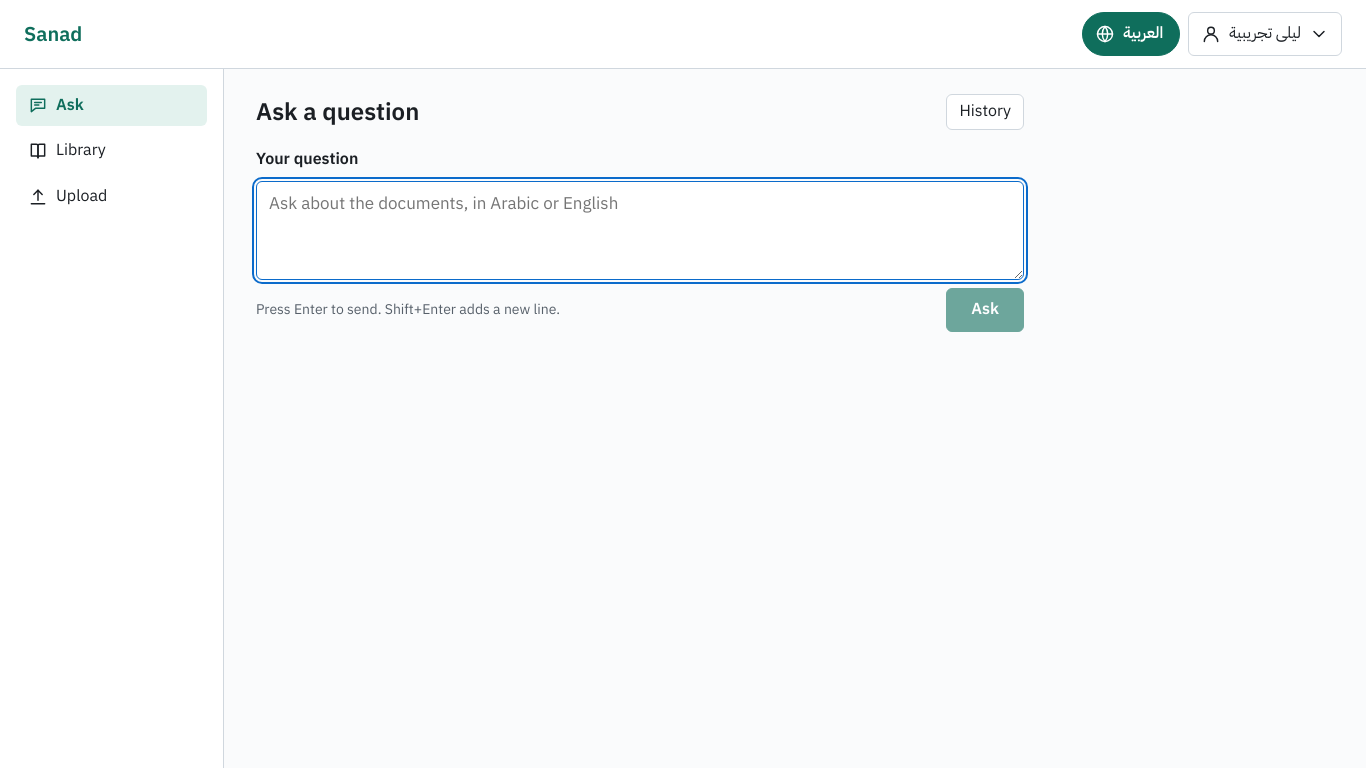
Test: user menu › keeps a real user's own name, email and role
Expected: the text "ليلى تجريبية" is shown, [1229,21,1301,47]
Click the button "ليلى تجريبية": click(1265, 34) [1188,12,1342,56]
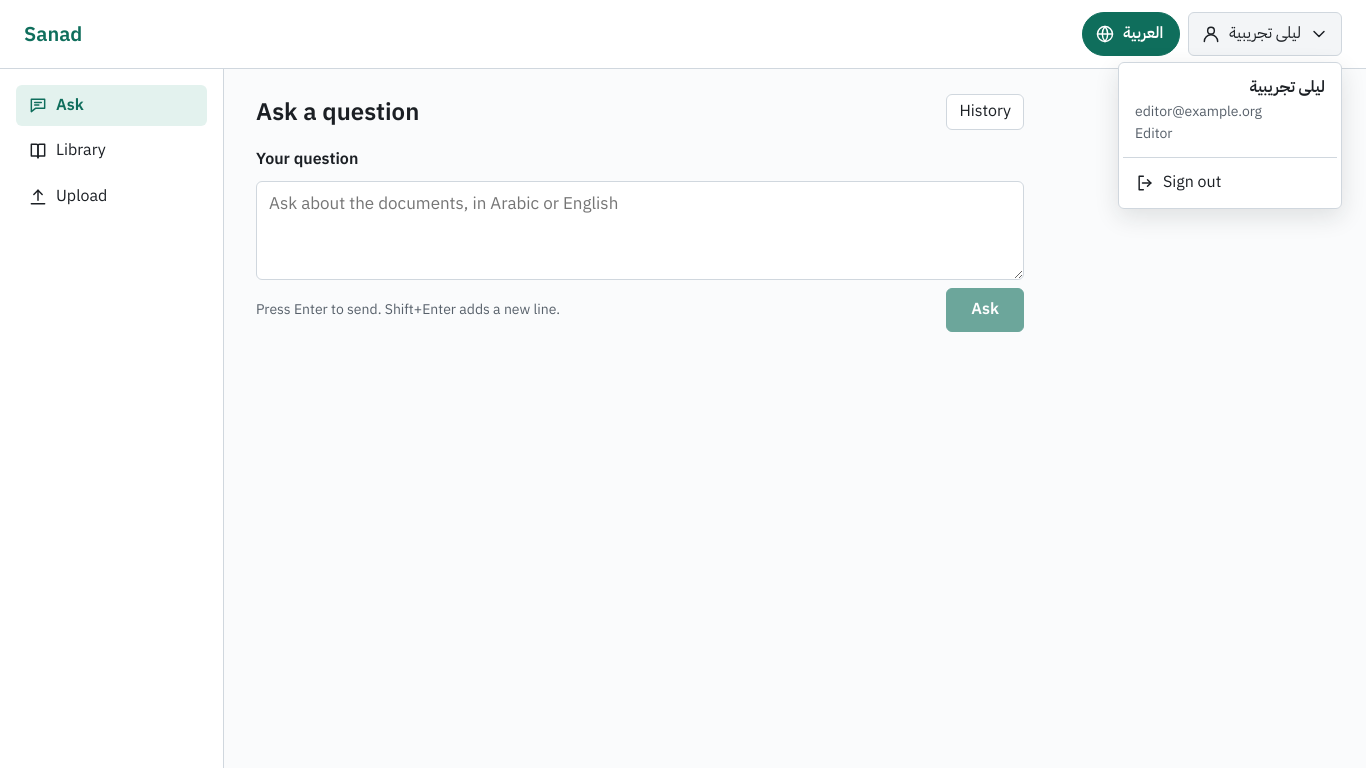
Now the 2nd text "ليلى تجريبية" is shown, box [1249,75,1325,99]
Now the text "Editor" is shown, box [1135,123,1172,144]
